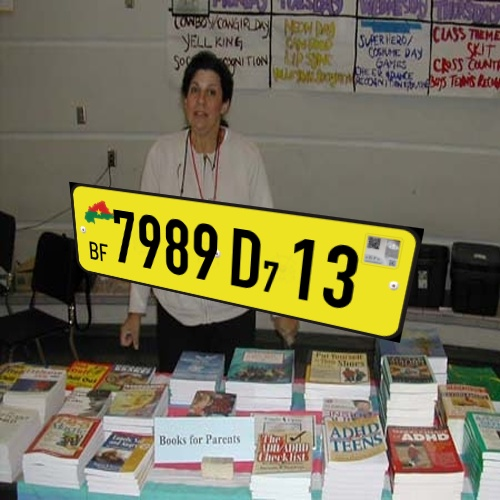plate: (53, 170, 428, 352)
